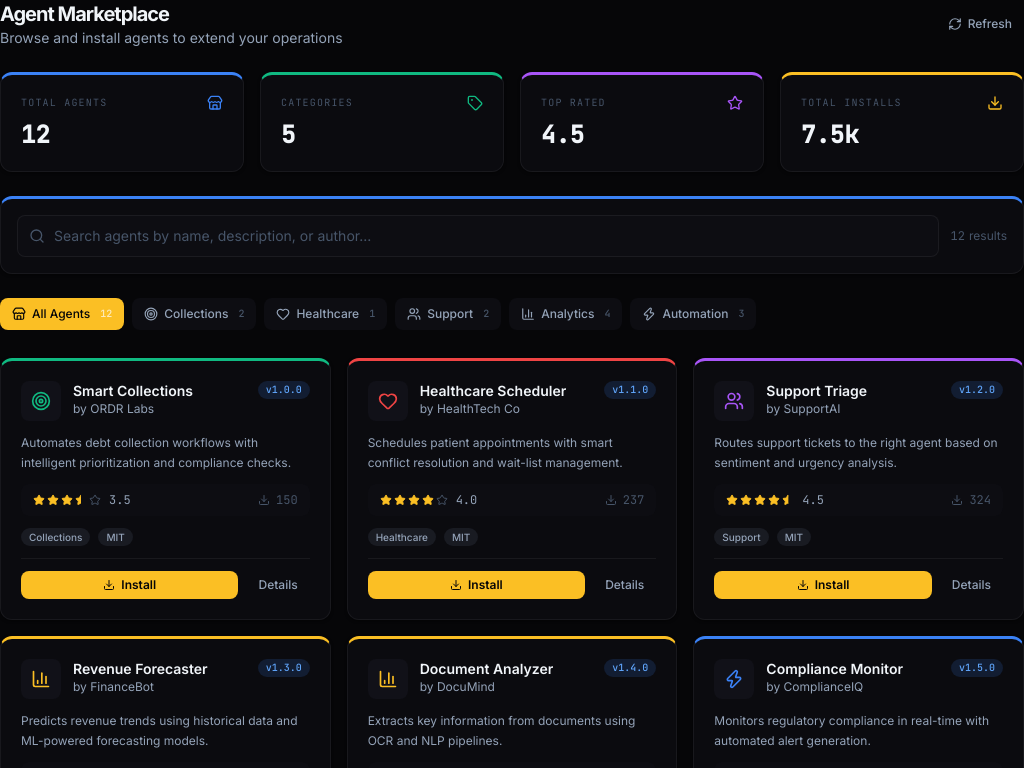
Marketplace › search filters agents
Check: the heading "Smart Collections" is shown, box [73, 381, 193, 401]
Type "Healthcare" into the field labelled "Search agents".
click(478, 236); type("Healthcare")  # box [17, 215, 939, 257]
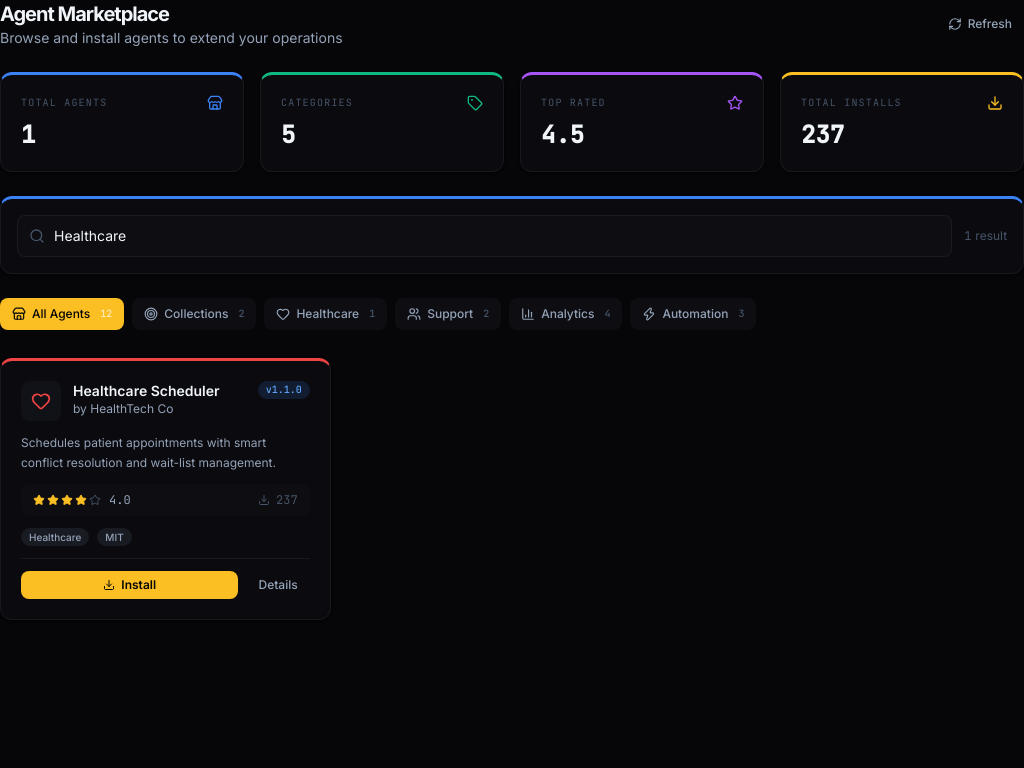
Check: the heading "Smart Collections" is gone
